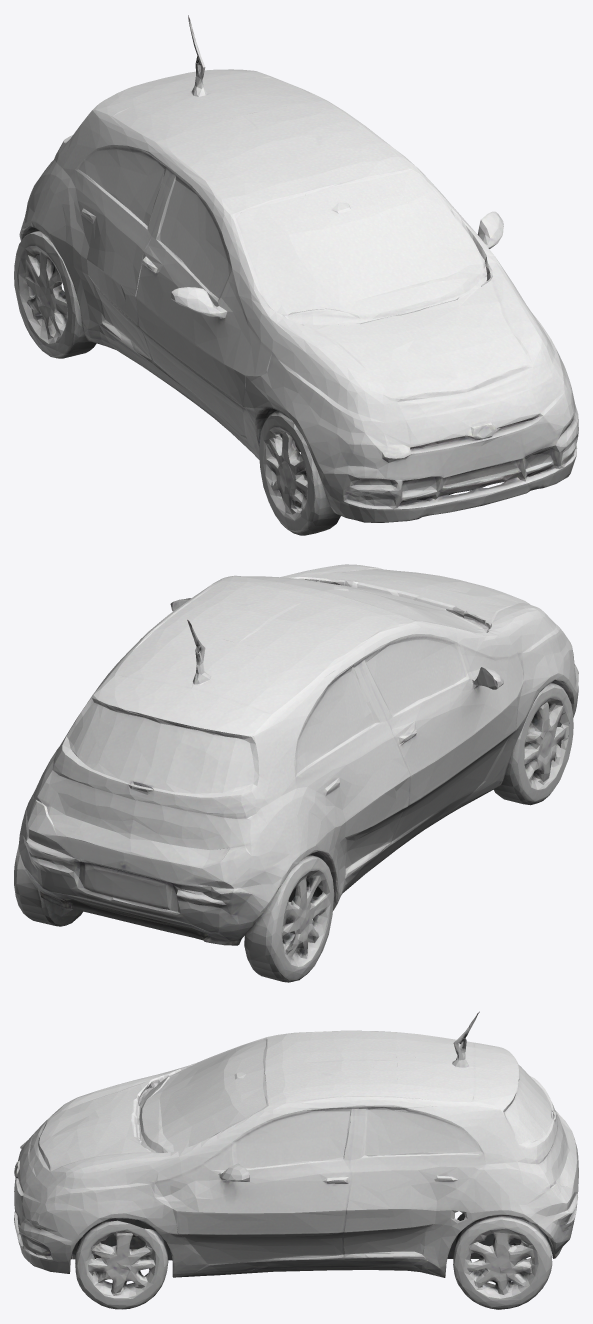
File: car_white.glb
3 renders of one model, top to bottom at view 1: azimuth 30°, elevation 25°; view 2: azimuth 150°, elevation 25°; view 3: azimuth 270°, elevation 25°, orthographic. The views are drawn at different scales.
Visible parts, largest first — view 1: world; view 2: world; view 3: world.
Boxes of the visible parts, x1=… form: world: x1=14, y1=15, x2=578, y2=535; world: x1=14, y1=564, x2=578, y2=982; world: x1=14, y1=1011, x2=578, y2=1309.
Bounding box in the file's own units: 0.5261 × 0.49 × 1.
1 material, 1 textured.
